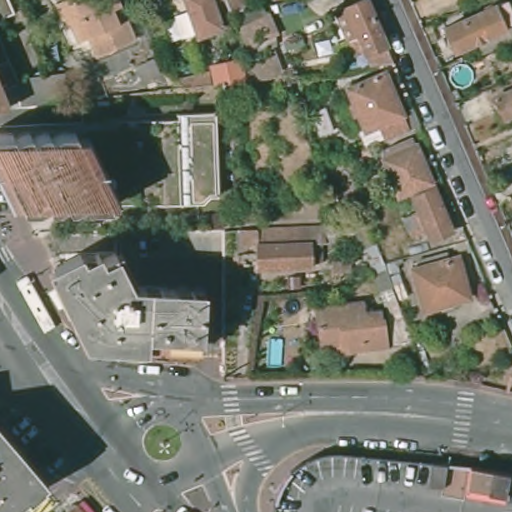pool: (259, 329, 290, 369), (445, 58, 476, 92)
